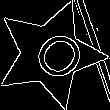O_SW: (16, 21, 84, 88)
